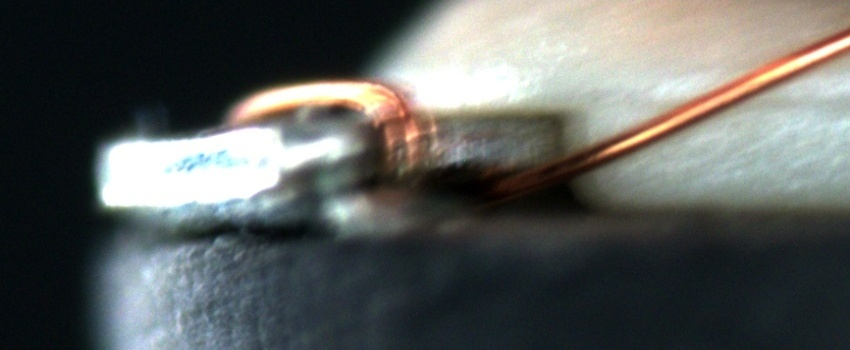DL: (632, 71, 849, 128)
TE: (218, 70, 430, 191)
